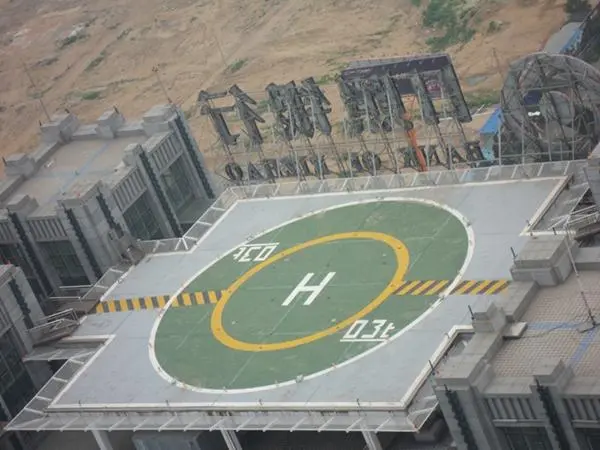Apron: (209, 229, 411, 354)
